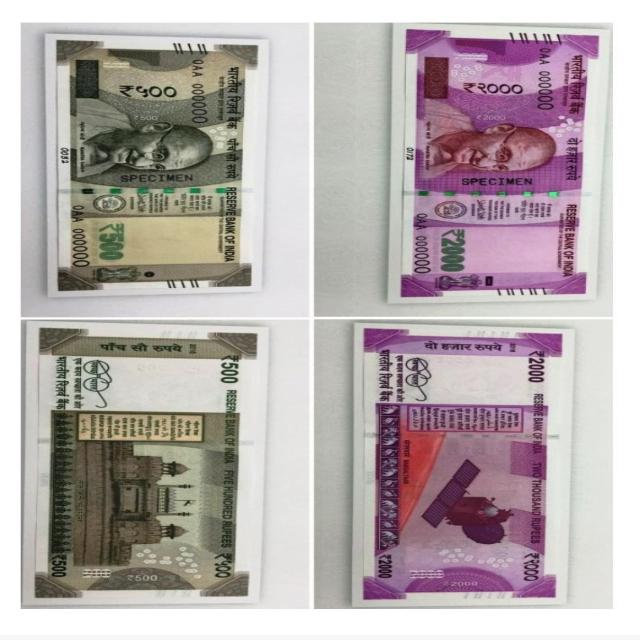500IndianRupees: (21, 322, 268, 608)
